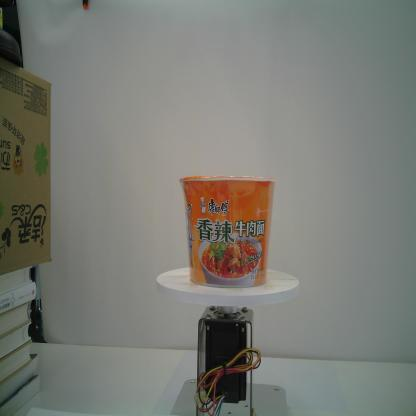Instant Noodles: (177, 172, 278, 289)
